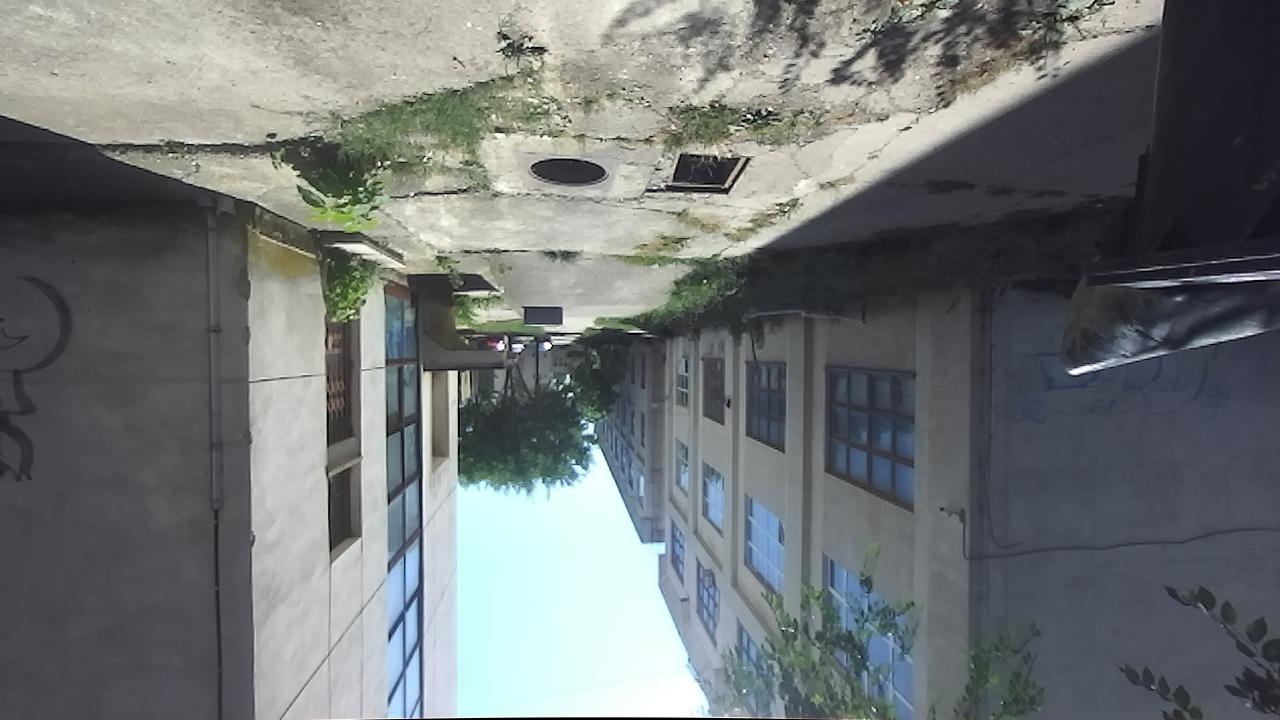drain: (663, 150, 756, 199), (524, 157, 614, 191)
